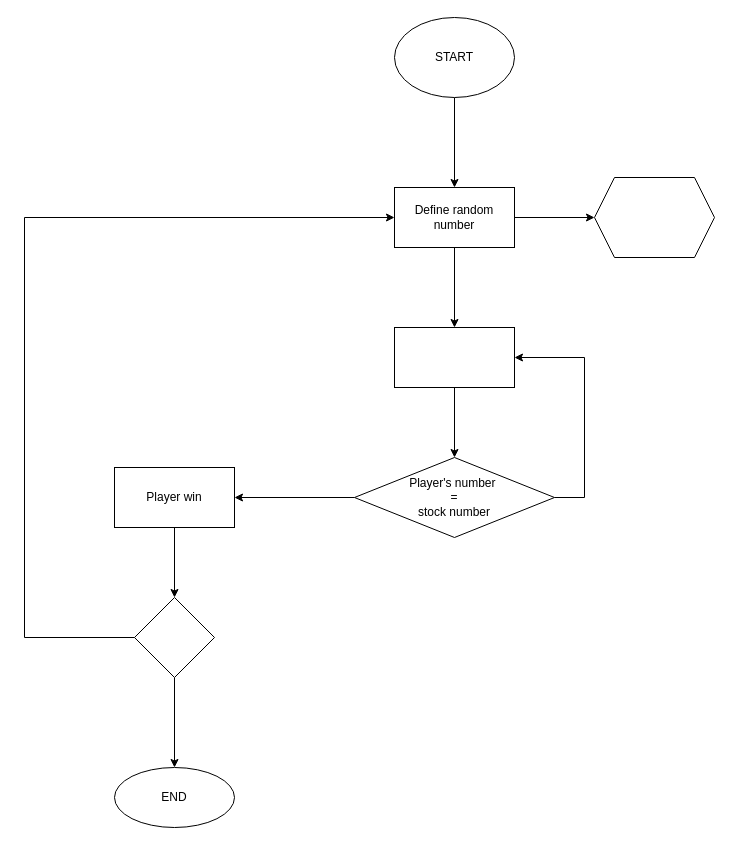
The diagram is 732 pixels wide and 845 high, and some of its shapes have lost their labels. Here are the shapes that lost their labels. From the top down, the centre of each, then its label:
At (x=654, y=217): "Stock number".
At (x=454, y=357): "Player choose number".
At (x=174, y=637): "Play again".
